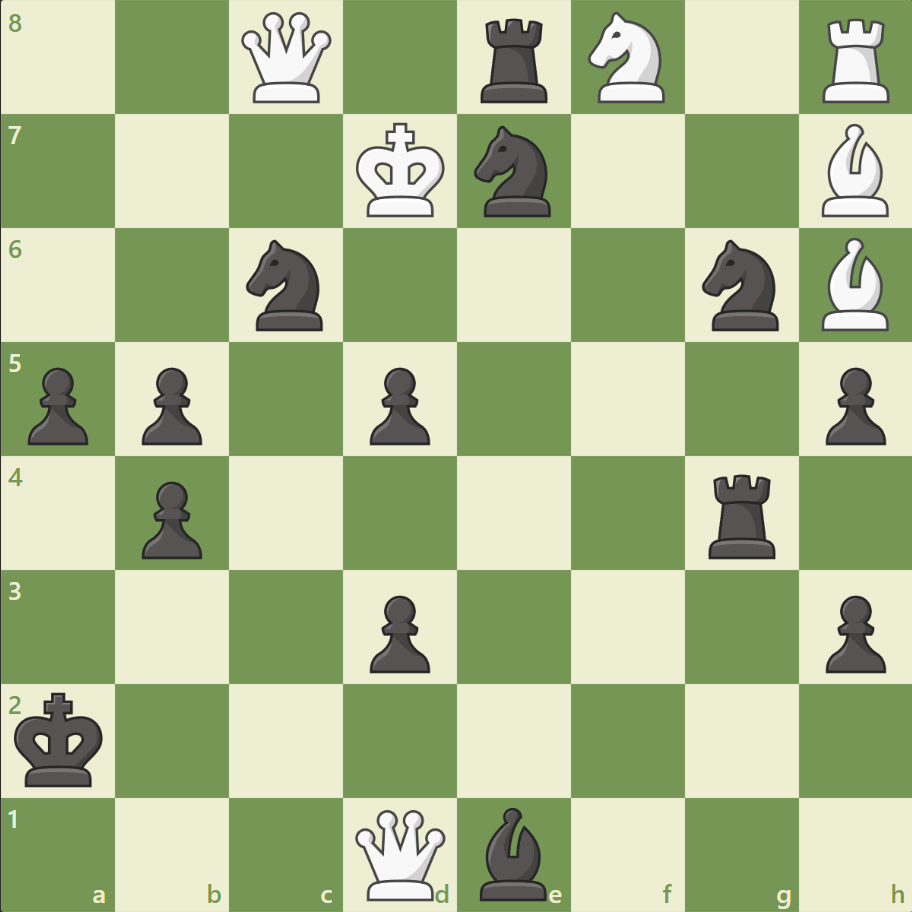B: (812, 233, 896, 336), (812, 120, 896, 222)
K: (351, 117, 451, 225)
N: (579, 7, 676, 110)
Q: (237, 9, 336, 108), (351, 804, 450, 903)
R: (814, 12, 897, 109)
b: (471, 801, 555, 904)
k: (11, 685, 111, 793)
n: (238, 234, 335, 337), (692, 234, 789, 337), (465, 121, 562, 223)
p: (20, 359, 95, 450), (133, 359, 208, 450), (133, 473, 208, 564), (361, 359, 435, 450), (815, 359, 889, 450), (361, 586, 435, 677), (815, 586, 889, 677)
r: (473, 12, 556, 109), (700, 466, 783, 563)
